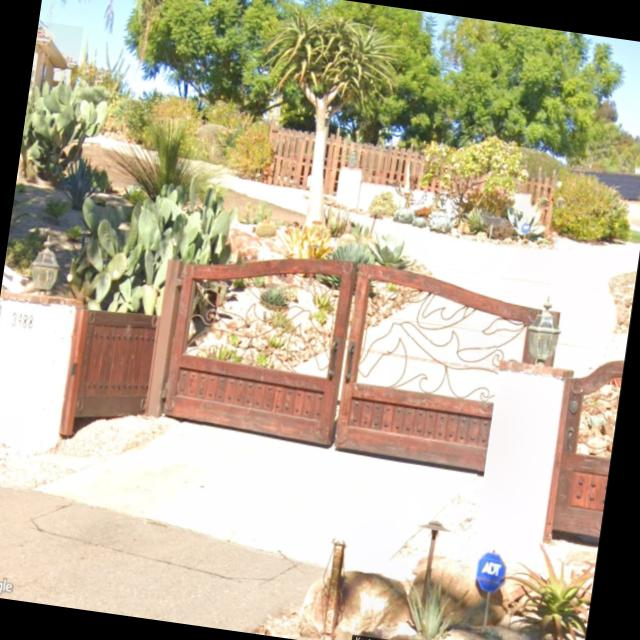House: (29, 22, 83, 98)
